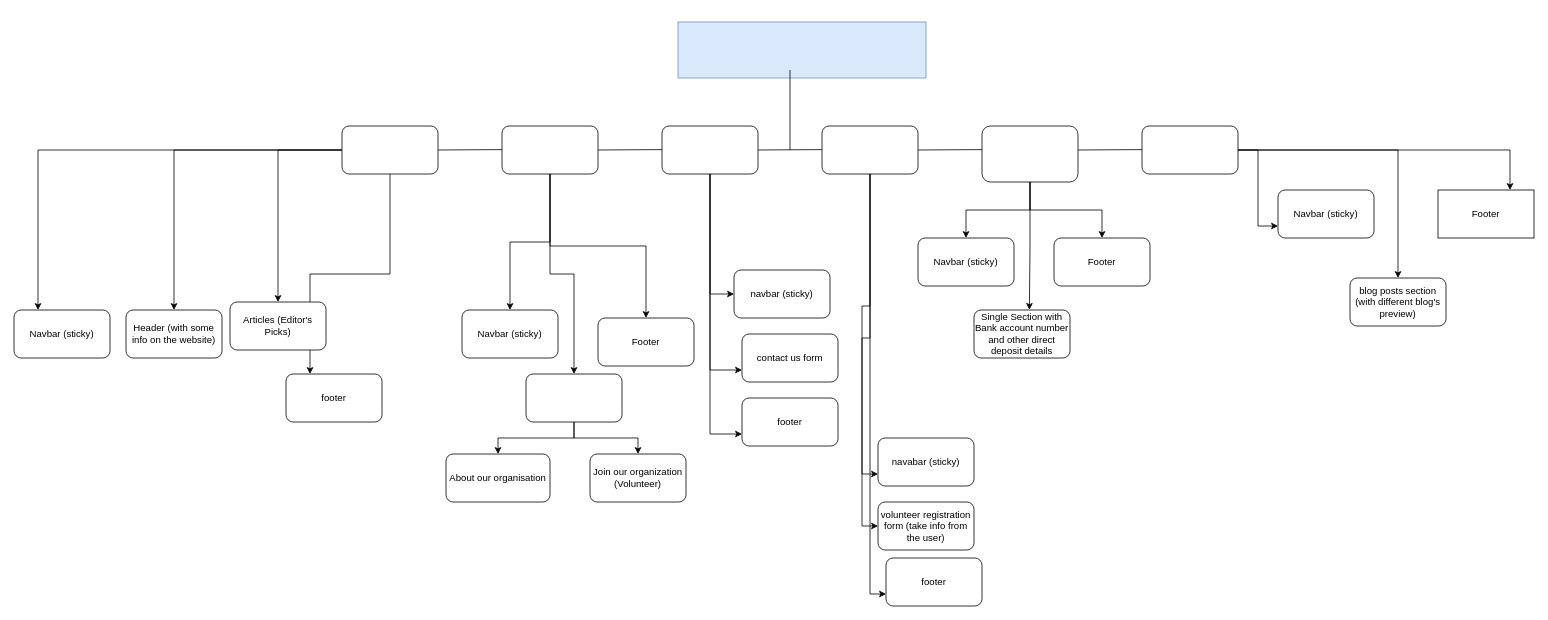
Some shapes in this 1548 by 620 pixel diagram are drawn without their labels. Here are the shapes that lost their labels. From the top down, the centre of each, then its label:
[801,49]: Defending Himalayas Website .
[389,149]: index.html
[549,149]: about.html
[709,149]: contact.html
[869,149]: join_us.html (volunteer registration)
[1029,153]: Donation.html (webpage to receive donations)
[1189,149]: Blog.html Editorials/Articles
[573,397]: About Section
